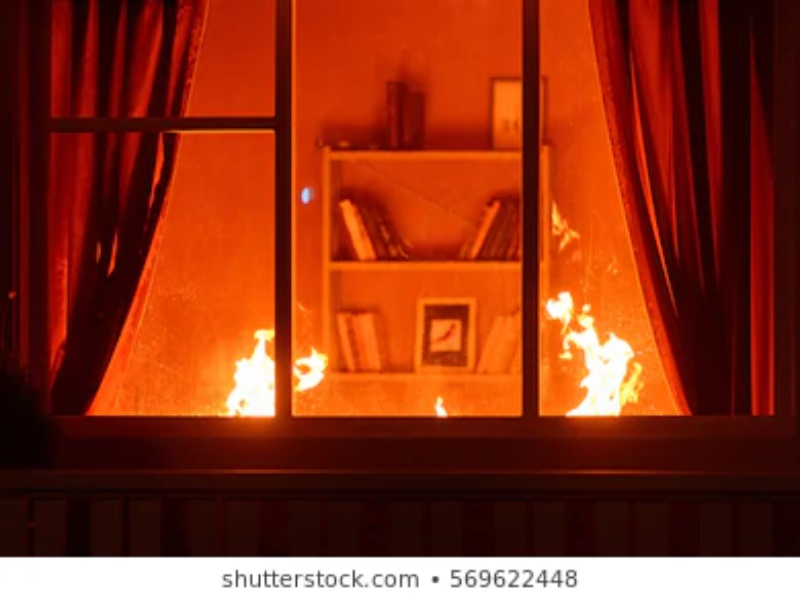fire: (166, 326, 346, 423), (533, 289, 647, 420), (422, 393, 460, 416)
